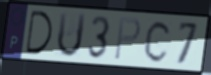3: (86, 15, 112, 61)
7: (176, 21, 200, 67)
C: (142, 19, 173, 64)
D: (24, 9, 54, 57)
P: (113, 16, 143, 62)
U: (55, 11, 87, 60)
